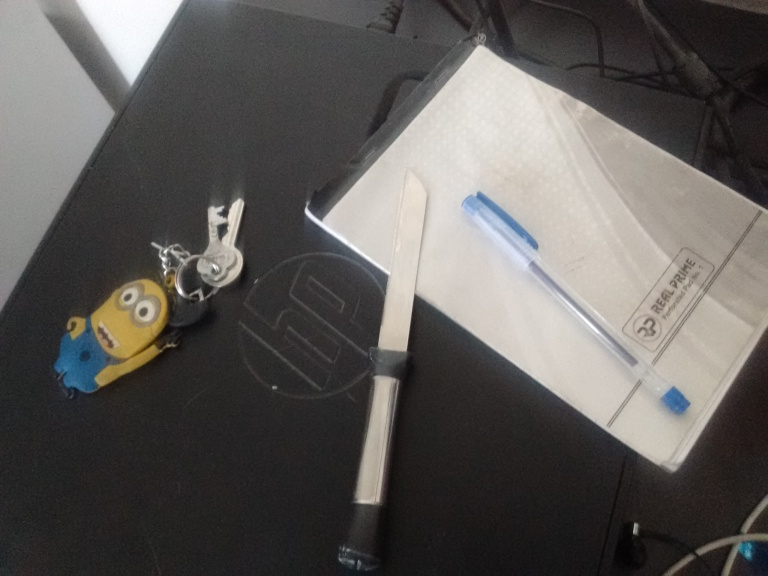knife: (334, 157, 430, 573)
